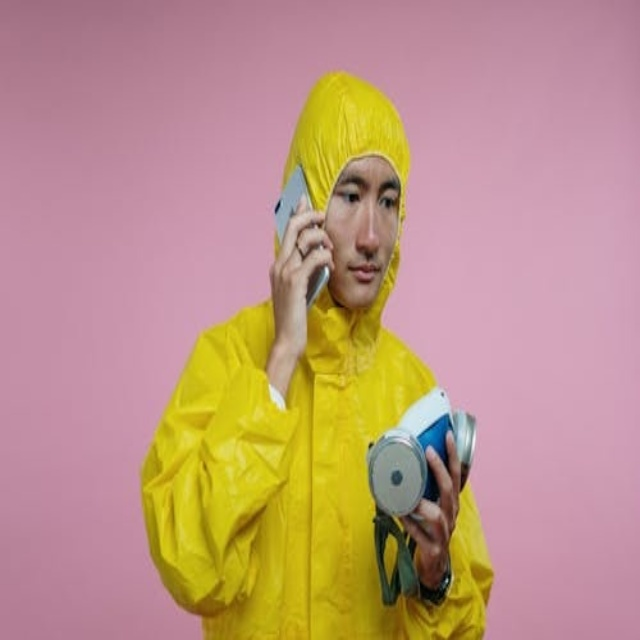Sin_gafas: (334, 165, 402, 217)
Sin_guantes: (394, 427, 464, 591), (264, 206, 335, 354)
Sin_mascara: (339, 256, 384, 294)
